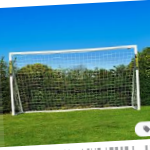goals: (7, 43, 143, 116)
